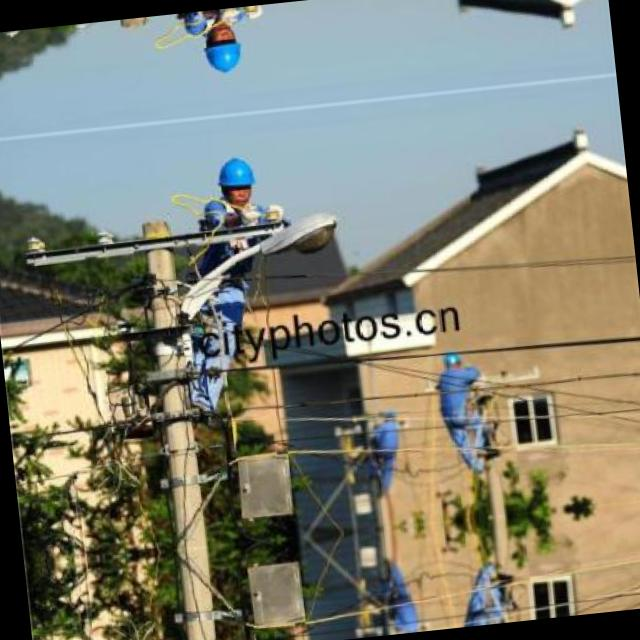helmet: (200, 22, 245, 78), (214, 150, 258, 207), (440, 344, 462, 374)
